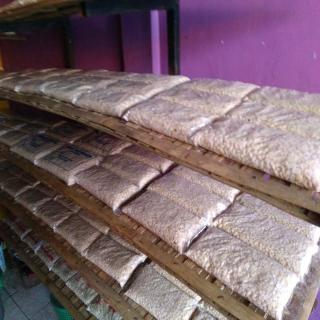Tempe: (184, 226, 303, 320), (195, 115, 320, 194), (124, 78, 262, 149), (212, 201, 319, 280), (147, 165, 244, 227), (122, 190, 209, 256)
